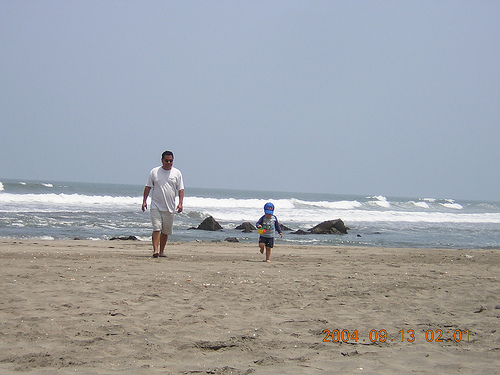without_mask: (160, 152, 175, 170), (263, 207, 275, 219)
